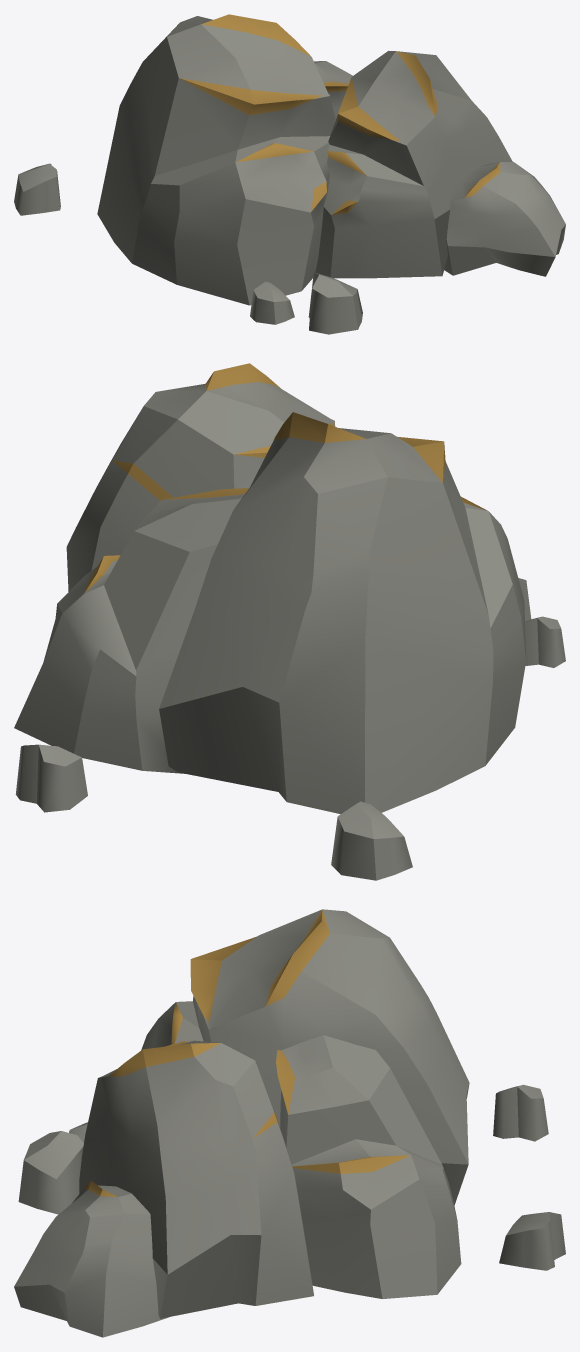
The model's file is quaternius-real-time-strategy-resource-gold-1.glb.
3 renders of one model, top to bottom at view 1: azimuth 30°, elevation 25°; view 2: azimuth 150°, elevation 25°; view 3: azimuth 270°, elevation 25°, orthographic. The views are drawn at different scales.
Visible parts, largest first — view 1: Resource_Gold_1; view 2: Resource_Gold_1; view 3: Resource_Gold_1.
Part boxes in pixels (box(x1,y1,x2,y2)): Resource_Gold_1: box(14, 14, 565, 334); Resource_Gold_1: box(14, 363, 565, 880); Resource_Gold_1: box(14, 909, 565, 1337).
Bounding box in the file's own units: 0.7402 × 0.4217 × 0.7609.
